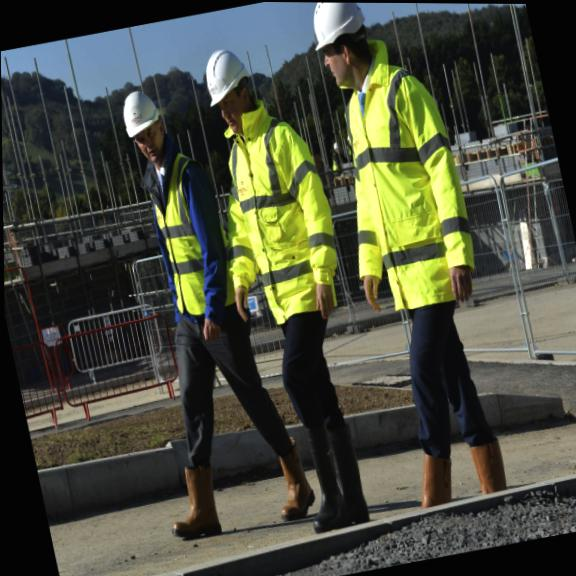safety_vest: (325, 47, 477, 306), (208, 91, 343, 320), (132, 138, 236, 322)
